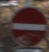No entry: (5, 5, 43, 47)
